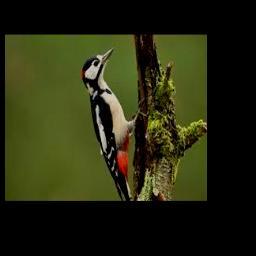Woodpecker: (82, 47, 149, 201)
